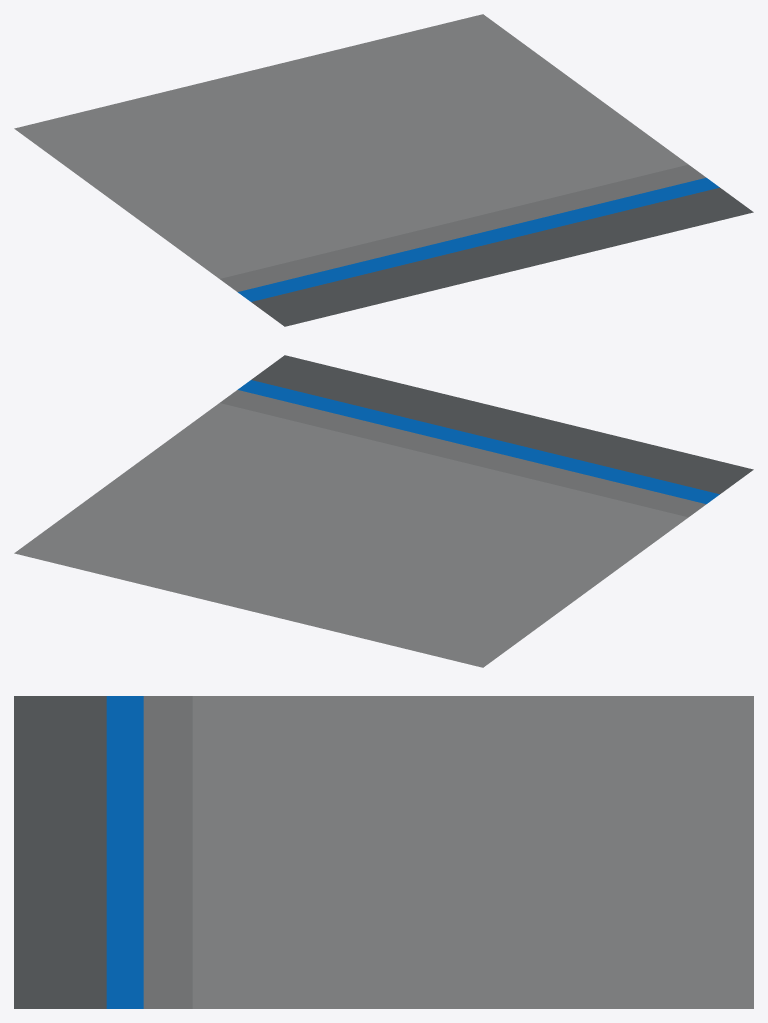
File: Ceiling_type_B_024.fbx
3 views of the same model, one above another, from view 1: azimuth 30°, elevation 25°; view 2: azimuth 150°, elevation 25°; view 3: azimuth 270°, elevation 25° (orthographic). The views are drawn at different scales.
Parts seen in each view (by area): view 1: Ceiling_type_B_024; view 2: Ceiling_type_B_024; view 3: Ceiling_type_B_024.
Part boxes in pixels (x1,y1,x2,y2): Ceiling_type_B_024: (14, 14, 753, 326); Ceiling_type_B_024: (14, 355, 753, 667); Ceiling_type_B_024: (14, 696, 753, 1008).
Size of the model in its own units: 400 by 400 by 6.18.
